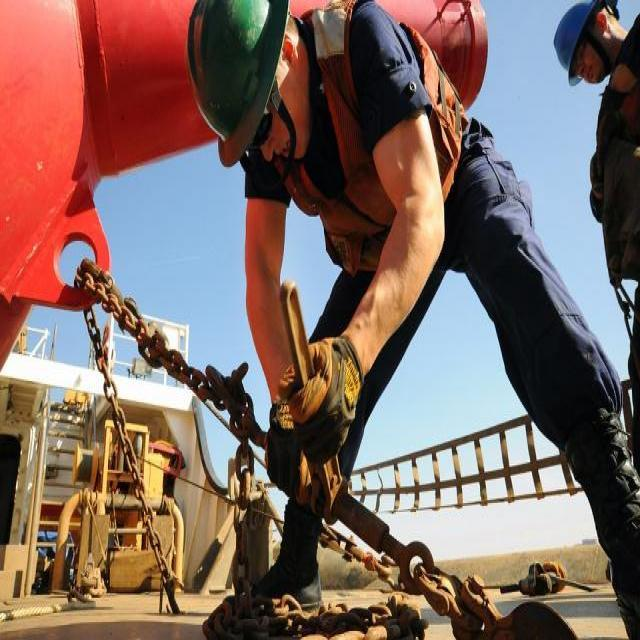reflective_jacket: (270, 4, 470, 236)
safety_helmet: (179, 0, 292, 176), (550, 0, 609, 86)
